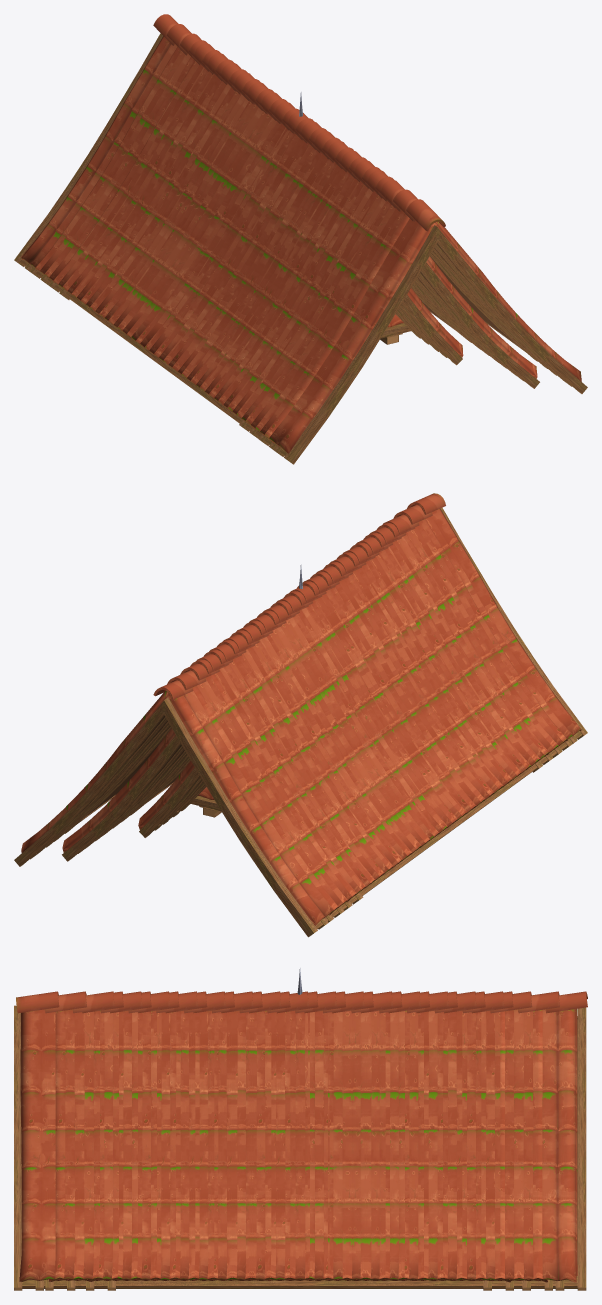
Rendered from village-kit.glb.
3 renders of one model, top to bottom at view 1: azimuth 30°, elevation 25°; view 2: azimuth 150°, elevation 25°; view 3: azimuth 270°, elevation 25°, orthographic. The views are drawn at different scales.
Visible parts, largest first — view 1: Roof_RoundTiles_8x14, Roof_RoundTiles_8x12, Roof_RoundTiles_8x10, Roof_RoundTiles_6x12, Roof_RoundTiles_4x8; view 2: Roof_RoundTiles_8x14, Roof_RoundTiles_8x10, Roof_RoundTiles_8x12, Roof_RoundTiles_6x12, Roof_RoundTiles_4x8; view 3: Roof_RoundTiles_8x14, Roof_RoundTiles_8x12, Roof_RoundTiles_8x10.
Boxes of the visible parts, x1,y1,x2,y2 form: Roof_RoundTiles_8x14: (14,14,587,464); Roof_RoundTiles_8x12: (30,24,565,449); Roof_RoundTiles_8x10: (48,40,547,438); Roof_RoundTiles_6x12: (355,256,539,388); Roof_RoundTiles_4x8: (399,288,463,365); Roof_RoundTiles_8x14: (14,493,587,937); Roof_RoundTiles_8x10: (54,523,553,910); Roof_RoundTiles_8x12: (36,505,572,922); Roof_RoundTiles_6x12: (62,728,243,861); Roof_RoundTiles_4x8: (138,761,202,837); Roof_RoundTiles_8x14: (14,991,587,1290); Roof_RoundTiles_8x12: (45,991,559,1290); Roof_RoundTiles_8x10: (82,991,513,1290).
Size of the model in its own units: 9.95 by 8.91 by 15.71.
Materials: 10 (9 with a texture image).
